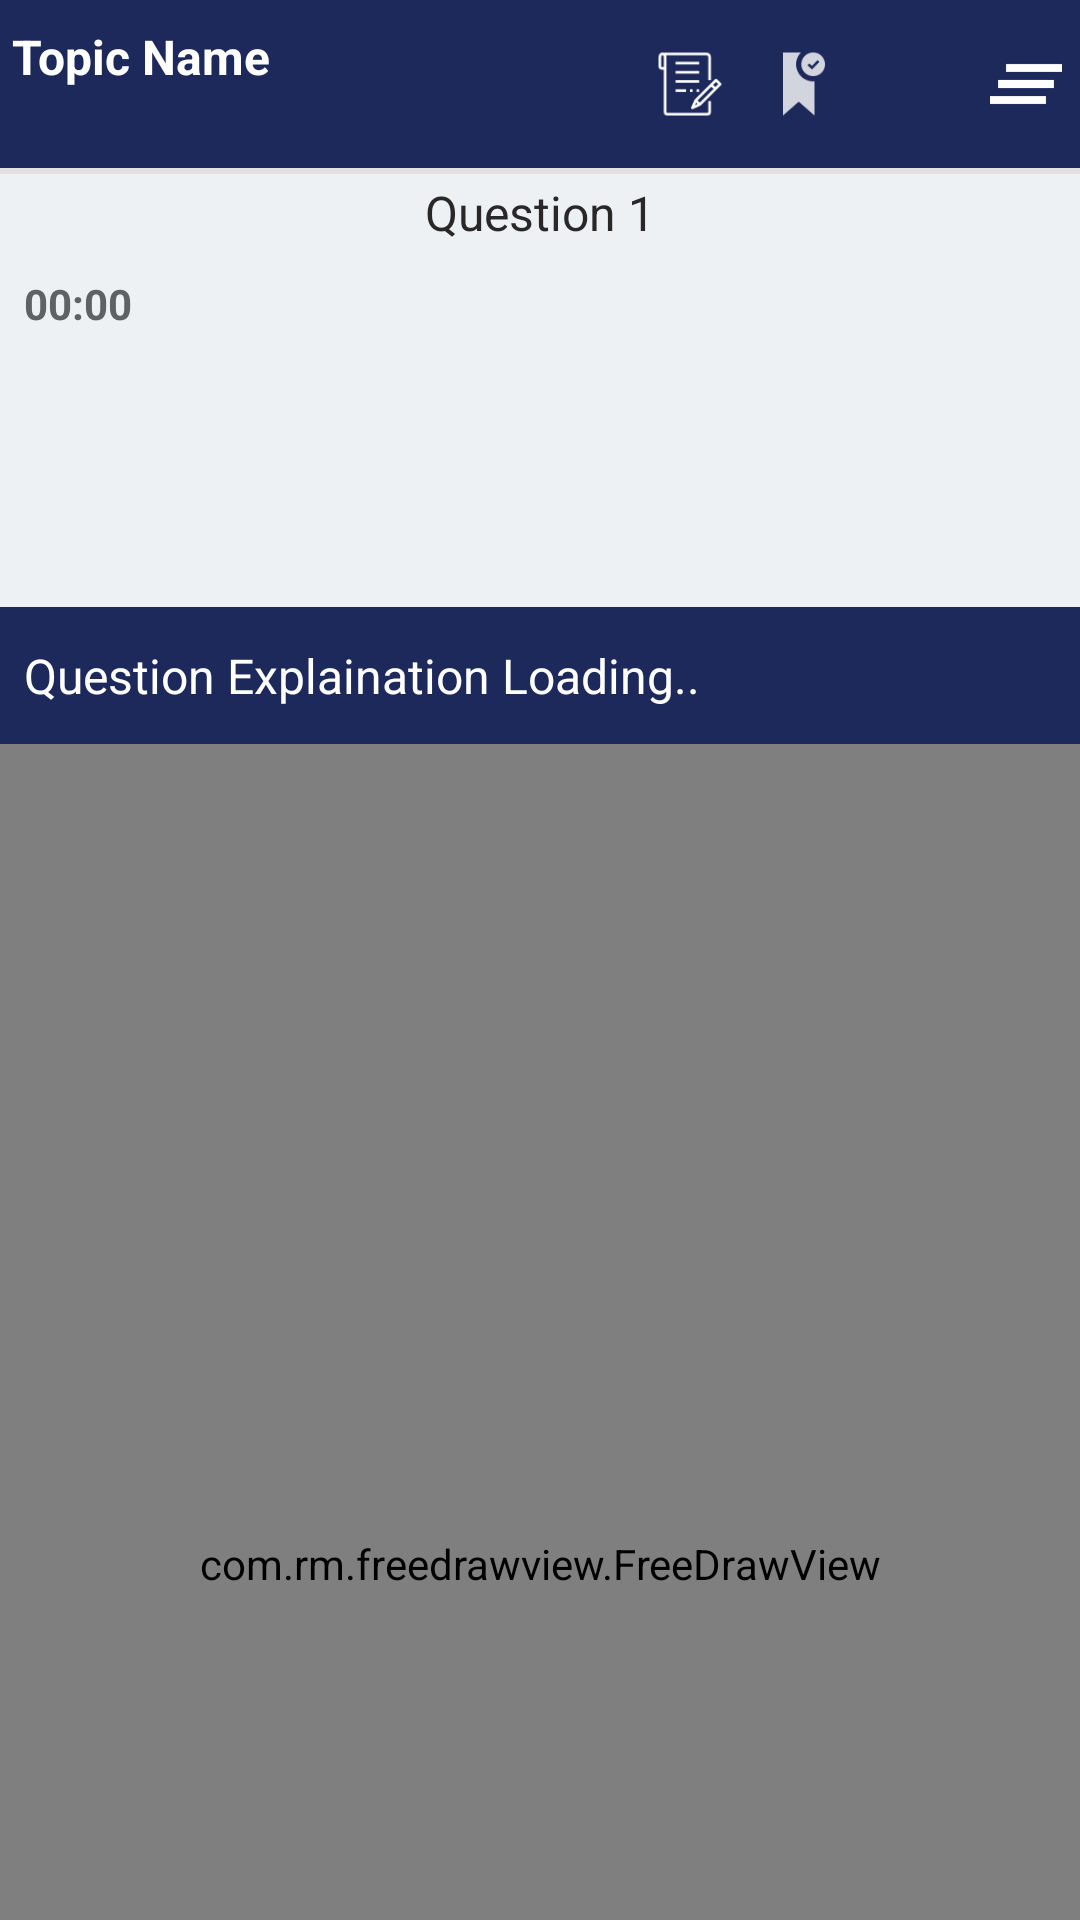

Where icons sit on this 1080*1920 app screen, as box=[x1, y1, x2, y2]:
bookmark: box=[783, 52, 825, 116]
freenote: box=[658, 52, 722, 116]
right menu: box=[990, 64, 1062, 104]
